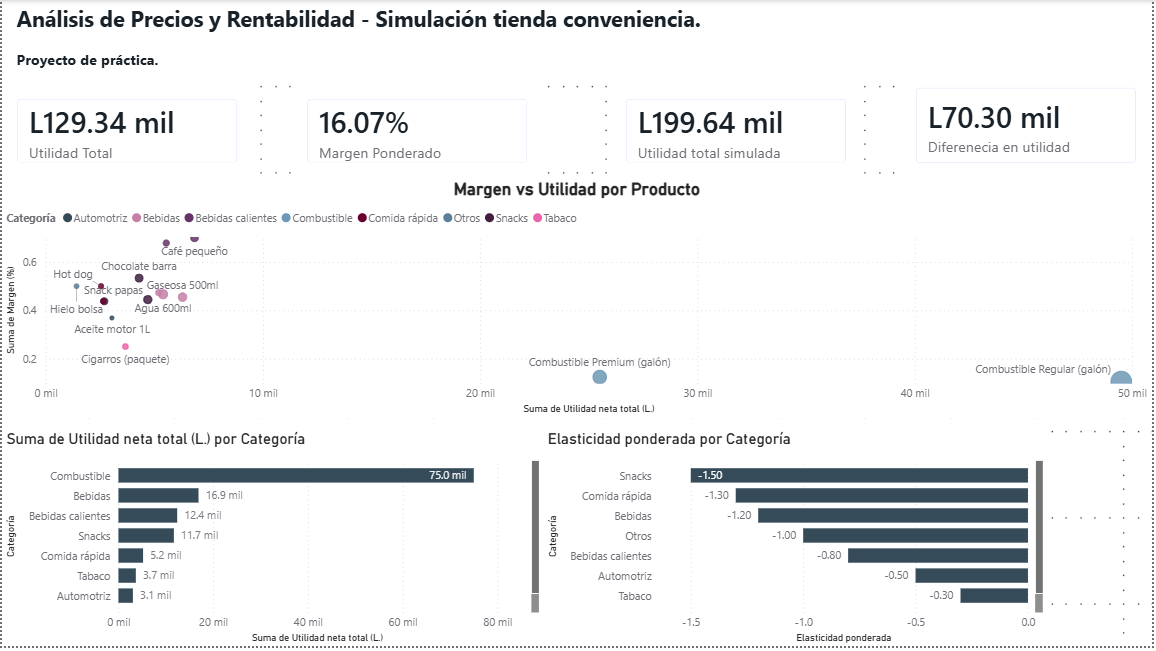

Layout of this report page (visuals, bound fields, positions):
{"tool":"powerbi","page":{"name":"Página 1","canvas":[1280,720],"ordinal":0},"visuals":[{"type":"cardVisual","fields":{"Data":["Productos.Utilidad Total"]},"box":[0,93.2,279.7,105.7],"z":0},{"type":"cardVisual","fields":{"Data":["Productos.Margen Ponderado"]},"box":[322.8,93.2,279.7,105.7],"z":1000},{"type":"cardVisual","fields":{"Data":["Productos.Utilidad total simulada"]},"box":[677.6,93.2,279.7,105.7],"z":2000},{"type":"cardVisual","fields":{"Data":["Productos.Diferenecia en utilidad"]},"box":[1000.3,80.7,279.7,118.3],"z":3000},{"type":"scatterChart","title":"Margen vs Utilidad por Producto","fields":{"Y":["Sum(Productos.Margen (%))"],"X":["Sum(Productos.Utilidad neta total (L.))"],"Category":["Productos.Producto"],"Series":["Productos.Categoría"],"Size":["Sum(Productos.Unidades vendidas/mes)"]},"box":[0,199,1280,267.1],"z":4000},{"type":"clusteredBarChart","fields":{"Y":["Sum(Productos.Utilidad neta total (L.))"],"Category":["Productos.Categoría"]},"box":[0,478.6,602.4,242.1],"z":5000},{"type":"clusteredBarChart","fields":{"Category":["Productos.Categoría"],"Y":["Productos.Elasticidad ponderada"]},"box":[602.4,478.6,560.7,242.1],"z":6000},{"type":"textbox","box":[11.1,0,1256.3,93.2],"z":6001}]}

Visuals, with their boxes in screenshot pixels (x1, y1, x2, y2), scaled from the page's 1280x720 canvas onto the 1156x651 screenshot:
cardVisual - Productos.Utilidad Total: bbox(0, 84, 253, 180)
cardVisual - Productos.Margen Ponderado: bbox(292, 84, 544, 180)
cardVisual - Productos.Utilidad total simulada: bbox(612, 84, 865, 180)
cardVisual - Productos.Diferenecia en utilidad: bbox(903, 73, 1155, 180)
"Margen vs Utilidad por Producto" scatterChart: bbox(0, 180, 1155, 421)
clusteredBarChart - Sum(Productos.Utilidad neta total (L.)) x Productos.Categoría: bbox(0, 433, 544, 650)
clusteredBarChart - Productos.Categoría x Productos.Elasticidad ponderada: bbox(544, 433, 1050, 650)
textbox: bbox(10, 0, 1145, 84)
